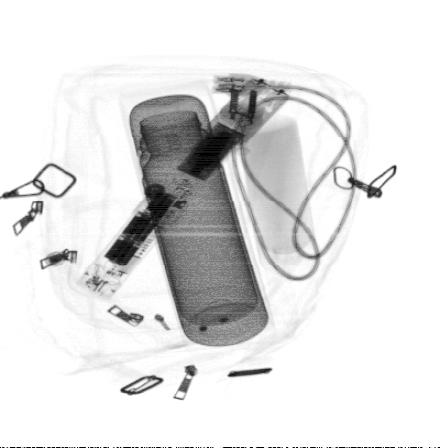Baton: (74, 74, 295, 304)
